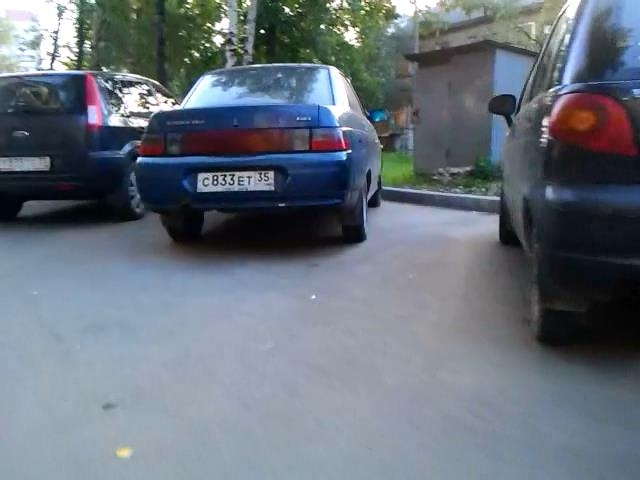car license plate: (195, 170, 276, 195), (1, 154, 52, 172)
